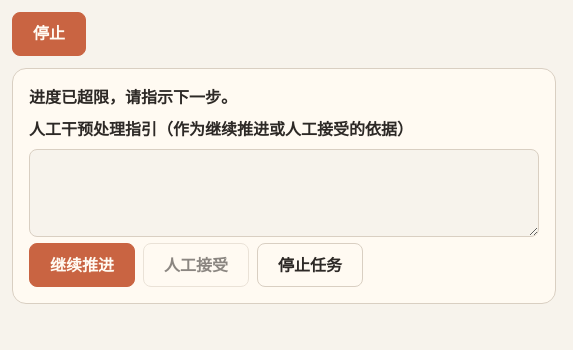
Test: TaskControls › blocks a guidance-less continue before it reaches the gateway
Click the button "继续推进" at (82, 265), box [29,243,135,287]
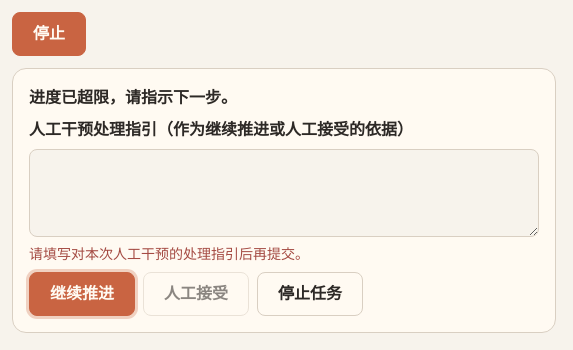
Check: the message "请填写对本次人工干预的处理指引后再提交。" is shown, box [29,245,309,262]
